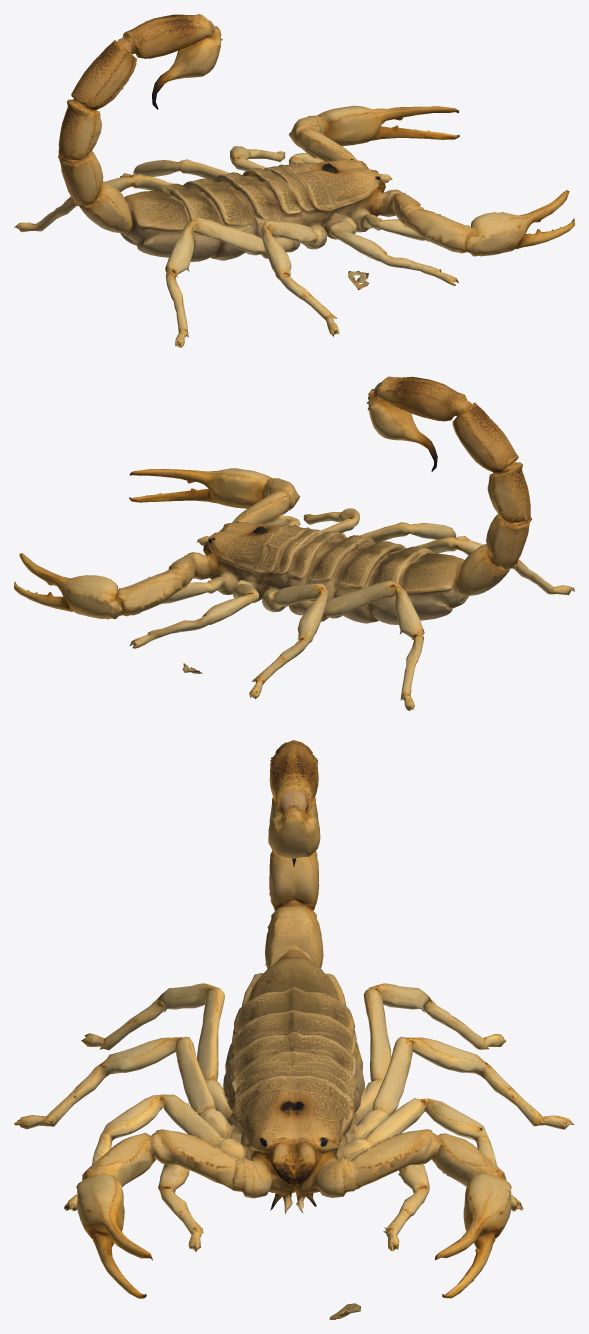
The model's file is scorpion.glb.
3 views of the same model, one above another, from view 1: azimuth 30°, elevation 25°; view 2: azimuth 150°, elevation 25°; view 3: azimuth 270°, elevation 25° (orthographic). The views are drawn at different scales.
Parts seen in each view (by area): view 1: tripo_node_5756f6cc-12a4-42d7-bc45-b5a76b2c4950; view 2: tripo_node_5756f6cc-12a4-42d7-bc45-b5a76b2c4950; view 3: tripo_node_5756f6cc-12a4-42d7-bc45-b5a76b2c4950.
Boxes of the visible parts, box(x1,y1,x2,y2) form: tripo_node_5756f6cc-12a4-42d7-bc45-b5a76b2c4950: box(14, 14, 574, 347); tripo_node_5756f6cc-12a4-42d7-bc45-b5a76b2c4950: box(14, 376, 574, 710); tripo_node_5756f6cc-12a4-42d7-bc45-b5a76b2c4950: box(14, 740, 574, 1319).
Size of the model in its own units: 1 by 0.6971 by 0.8216.
Materials: 1 (1 with a texture image).
